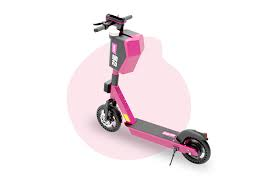kick_board: (93, 14, 210, 165)
kick_body: (134, 122, 177, 144)
kick_handler: (94, 14, 133, 32)
kick_neck: (109, 35, 141, 99)
kick_wheel: (181, 129, 211, 165), (96, 104, 120, 132)
